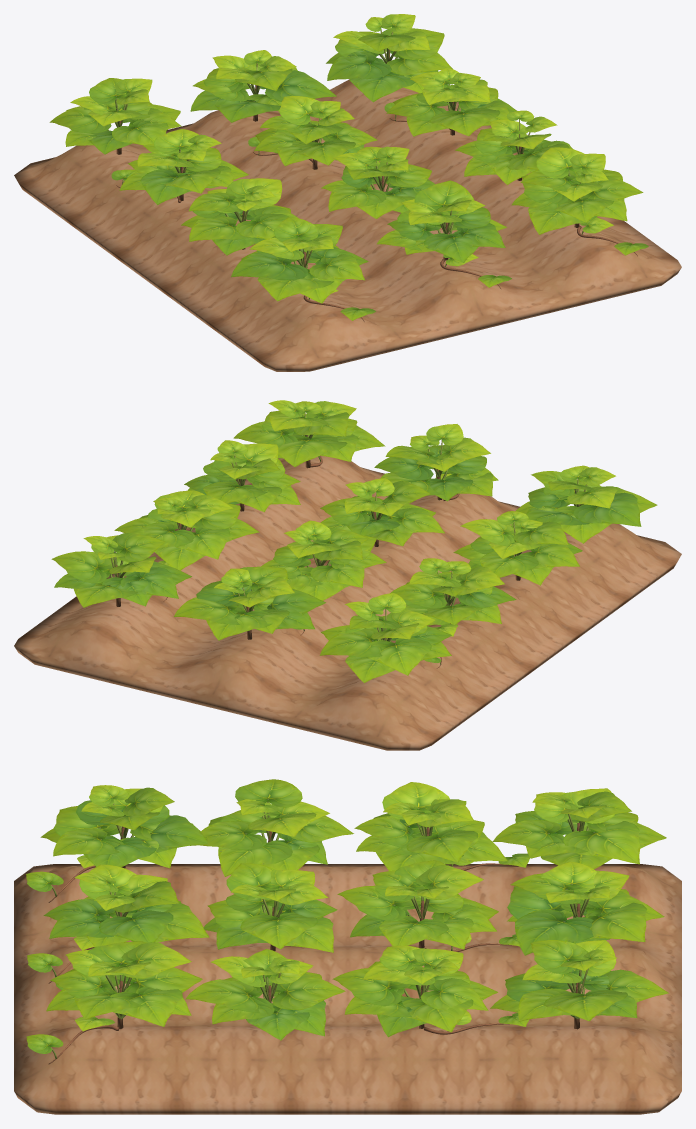
Rendered from cultivated_sweet_potato.glb.
3 views of the same model, one above another, from view 1: azimuth 30°, elevation 25°; view 2: azimuth 150°, elevation 25°; view 3: azimuth 270°, elevation 25° (orthographic). The views are drawn at different scales.
Visible parts, largest first — view 1: foliage, soil, stems; view 2: foliage, soil, stems; view 3: foliage, soil, stems.
Part boxes in pixels (x1,y1,x2,y2): foliage: [49, 14, 648, 320]; soil: [14, 79, 681, 371]; stems: [107, 26, 637, 321]; foliage: [51, 400, 657, 682]; soil: [14, 455, 681, 750]; stems: [97, 412, 589, 668]; foliage: [26, 779, 668, 1053]; soil: [14, 864, 681, 1114]; stems: [48, 799, 608, 1064].
Size of the model in its own units: 3.16 by 0.737 by 3.66.
3 materials, 3 textured.
